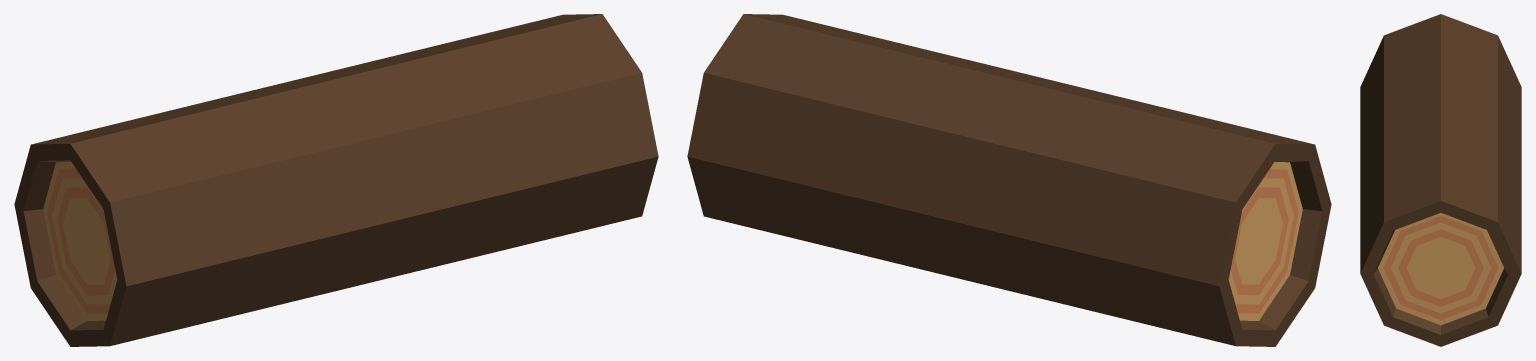
File: log.fbx
The picture shows the model from 3 angles, left to right: view 1: azimuth 30°, elevation 25°; view 2: azimuth 150°, elevation 25°; view 3: azimuth 270°, elevation 25°; orthographic projection. The views are drawn at different scales.
Parts seen in each view (by area): view 1: Cylinder; view 2: Cylinder; view 3: Cylinder.
Part boxes in pixels (<box>): Cylinder: <box>14,14,658,346</box>; Cylinder: <box>687,14,1331,346</box>; Cylinder: <box>1360,14,1521,346</box>.
Bounding box in the file's own units: 0.8221 × 0.2999 × 0.2999.
